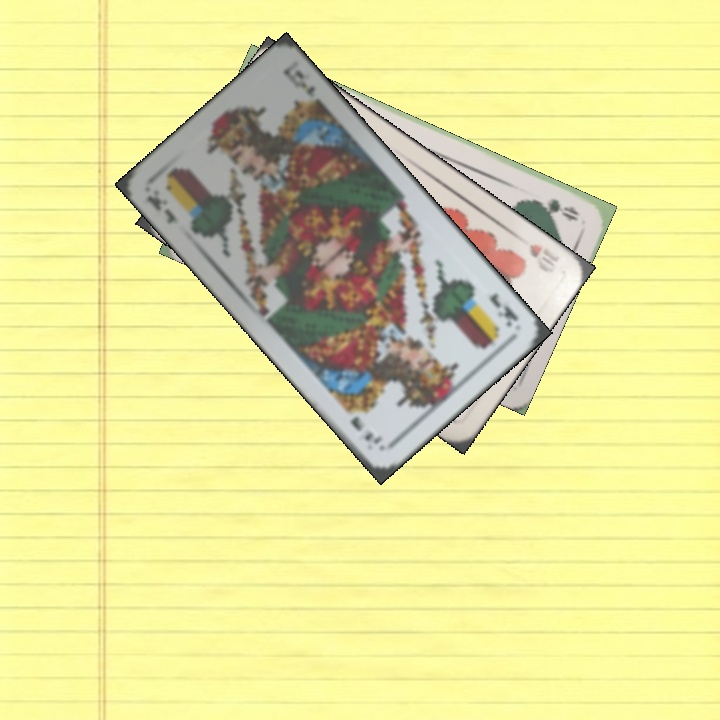EK: (484, 288, 521, 330), (142, 191, 181, 227)
GO: (526, 194, 583, 224)
H10: (525, 239, 562, 270)
